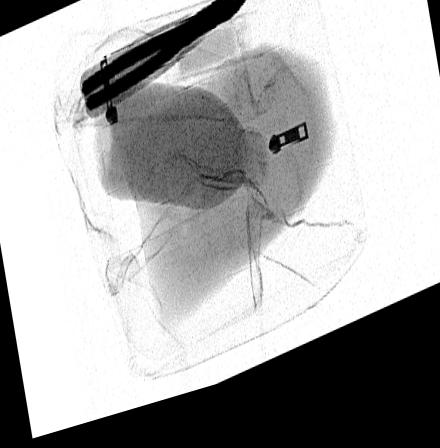Pliers: (78, 5, 247, 123)
